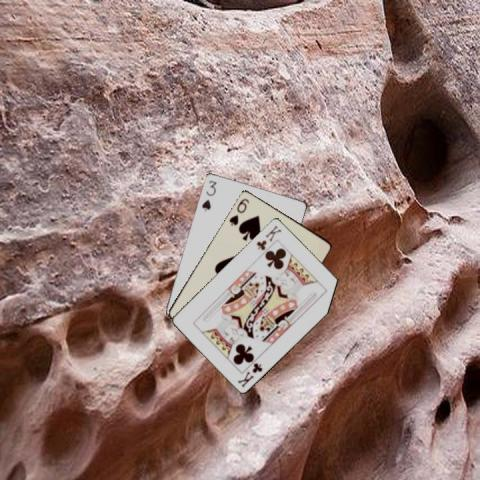3s: (199, 177, 218, 212)
6s: (226, 196, 251, 228)
Kc: (253, 222, 284, 251), (235, 359, 264, 388)
